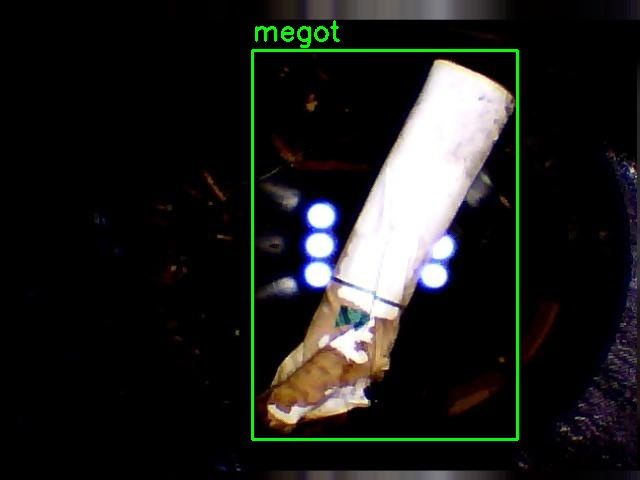megot: (252, 50, 517, 439)
